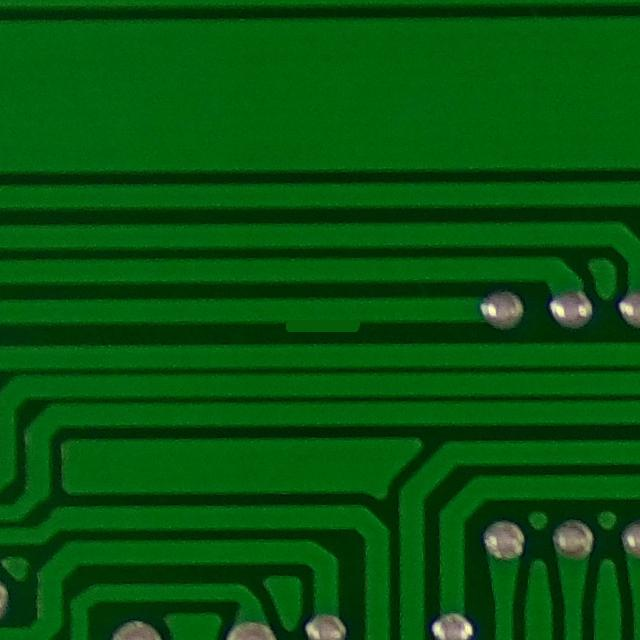spur: (263, 297, 378, 344)
